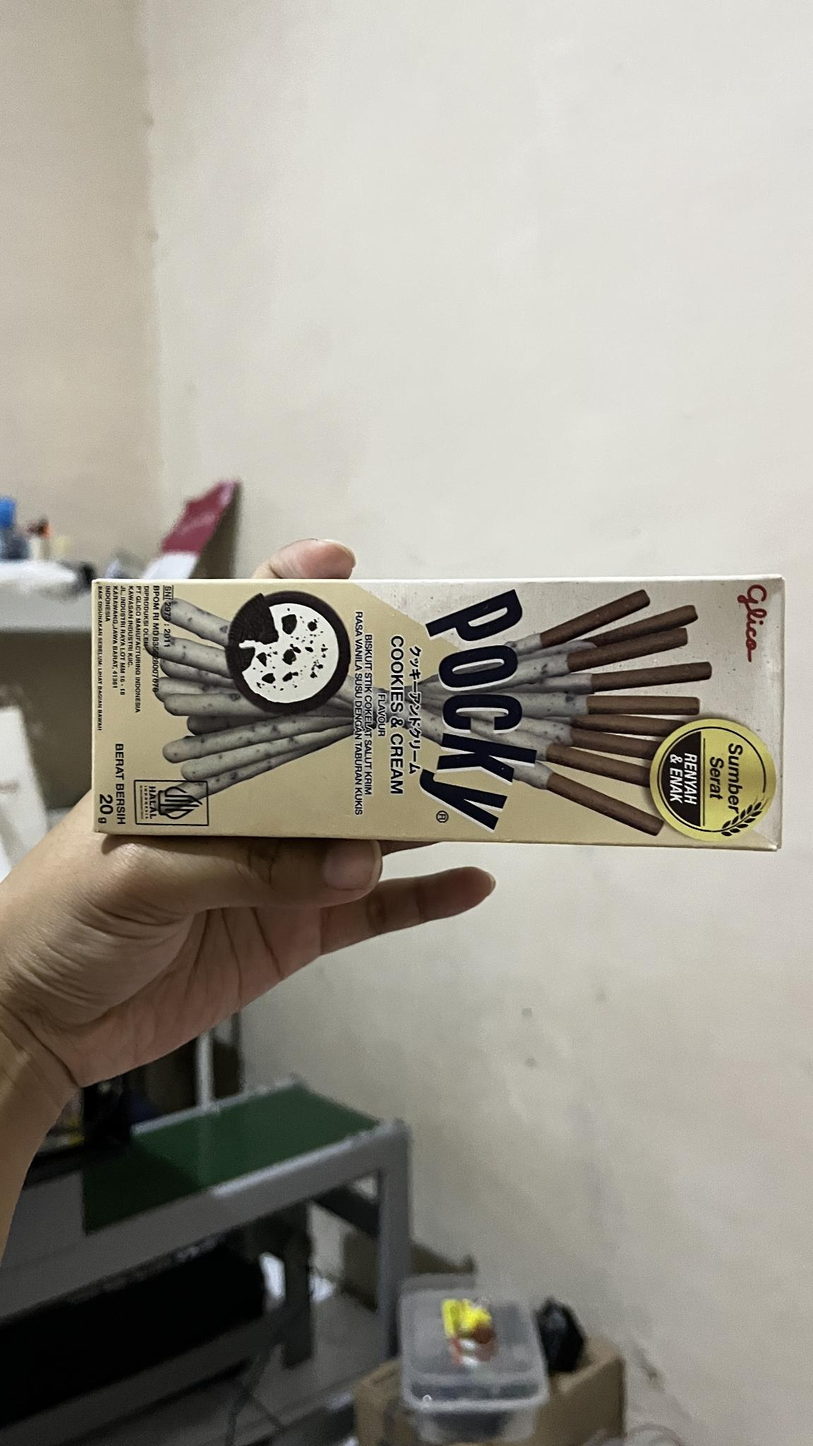Kertas: (93, 570, 774, 846)
